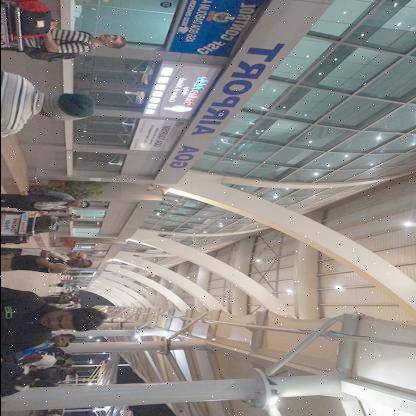airport-trolley: (0, 0, 37, 55), (0, 209, 37, 246)
